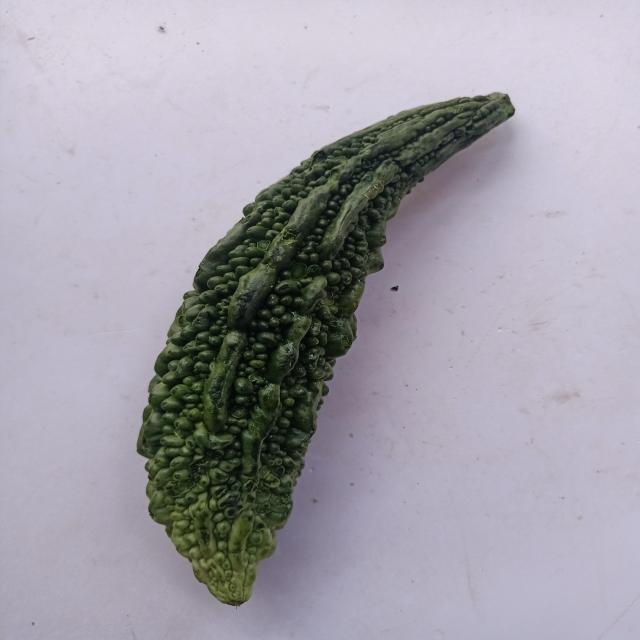Bitter Gourd: (120, 63, 559, 620)
